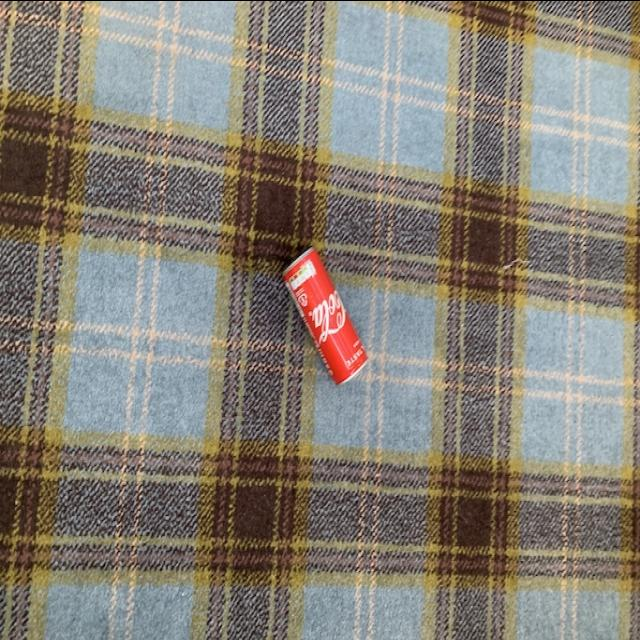Aluminum Can: (285, 245, 373, 387)
